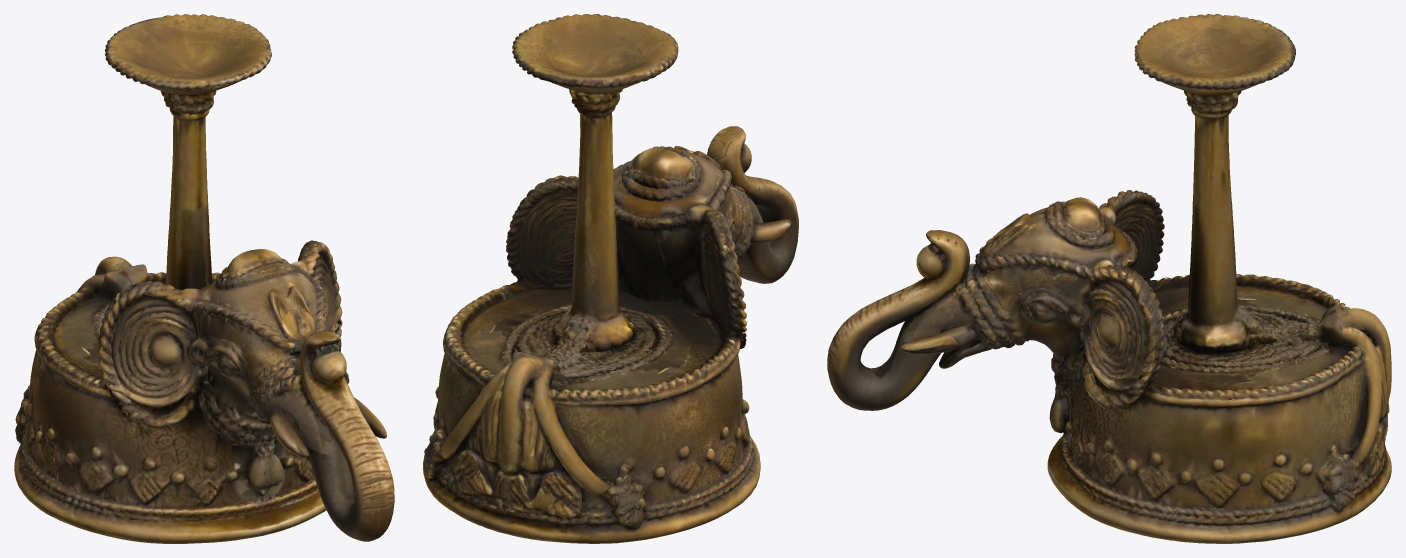
File: Dokra Metal Crafts.glb
3 views of the same model, side by side, from view 1: azimuth 30°, elevation 25°; view 2: azimuth 150°, elevation 25°; view 3: azimuth 270°, elevation 25° (orthographic).
Bounding box in the file's own units: 1.16 × 1.6 × 1.9.
Materials: 1 (1 with a texture image).
